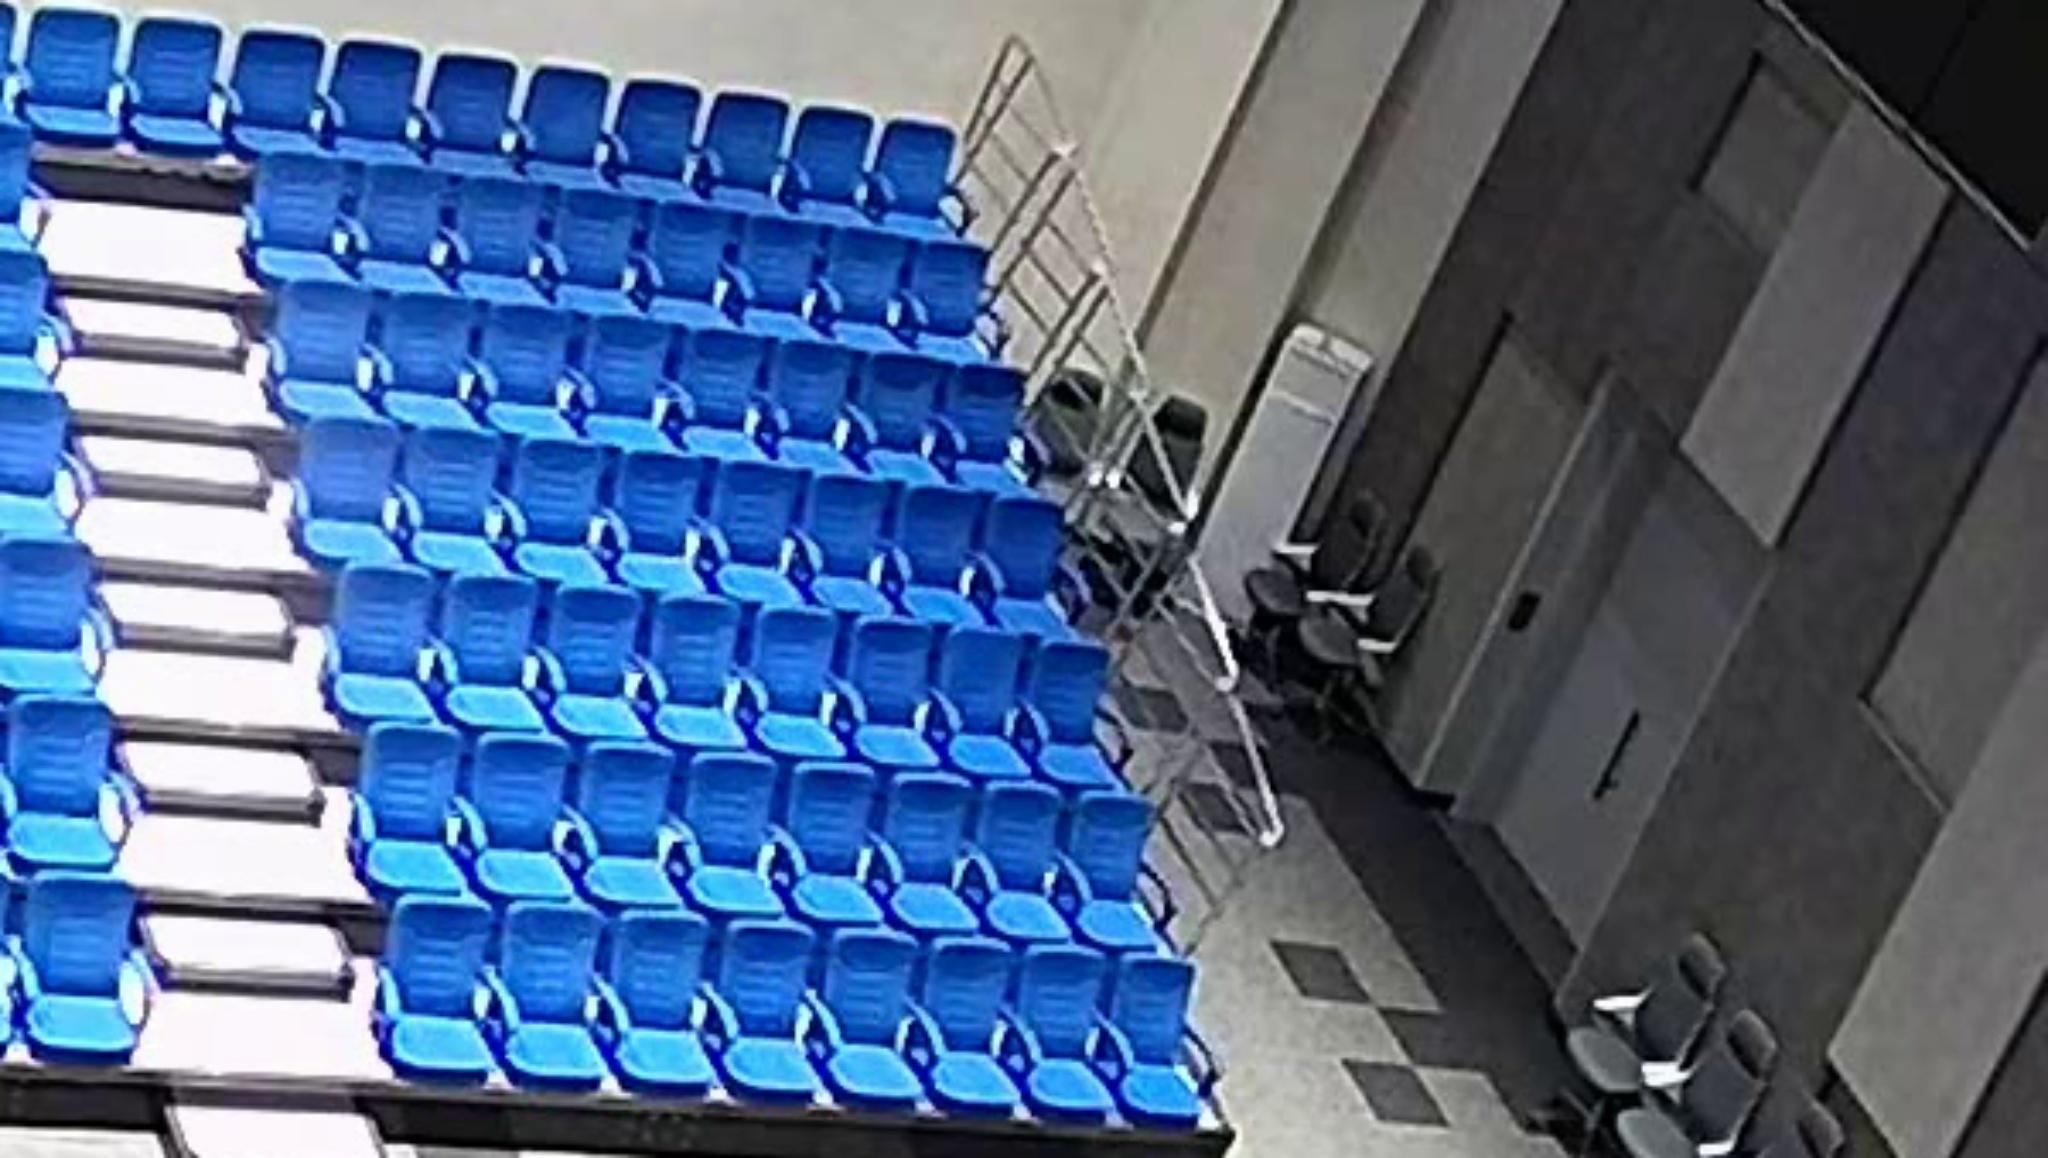empty: (367, 895, 502, 1086), (20, 872, 139, 1061), (489, 905, 605, 1089), (599, 909, 712, 1097), (713, 916, 823, 1106), (819, 927, 927, 1113), (350, 723, 466, 895), (487, 436, 616, 585), (678, 750, 793, 916), (467, 727, 571, 910), (331, 561, 443, 729), (570, 746, 682, 912), (924, 937, 1020, 1126), (7, 696, 115, 863), (435, 575, 547, 734), (745, 602, 850, 767), (1017, 944, 1111, 1126), (876, 774, 979, 940), (1065, 789, 1167, 954), (474, 297, 591, 440), (543, 587, 651, 740), (641, 594, 748, 747), (122, 10, 235, 155), (15, 6, 127, 152), (786, 758, 883, 926), (374, 286, 485, 429), (397, 424, 506, 568), (696, 454, 802, 605), (294, 415, 402, 559), (972, 780, 1070, 936), (1111, 957, 1197, 1134), (934, 628, 1037, 775), (795, 471, 900, 613), (841, 615, 940, 767), (0, 530, 93, 688), (608, 447, 705, 598), (442, 172, 553, 301), (267, 277, 367, 419), (1028, 636, 1122, 787), (228, 23, 329, 162), (342, 160, 453, 287), (414, 48, 523, 176), (508, 61, 617, 189), (580, 311, 677, 454), (634, 194, 743, 322), (893, 485, 994, 622), (695, 86, 803, 212), (243, 155, 350, 283), (324, 35, 428, 166), (671, 324, 769, 460), (602, 73, 709, 198), (814, 222, 917, 352), (940, 364, 1042, 490), (549, 182, 640, 318), (761, 341, 857, 470), (731, 208, 826, 338), (0, 383, 76, 542), (983, 491, 1070, 629), (855, 352, 942, 483), (875, 114, 966, 236), (911, 241, 999, 363), (791, 103, 873, 228), (1114, 732, 1114, 737)
